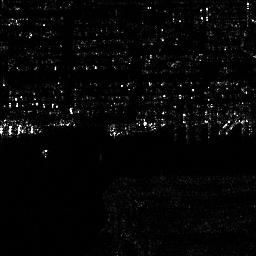ship: (110, 123, 160, 136)
